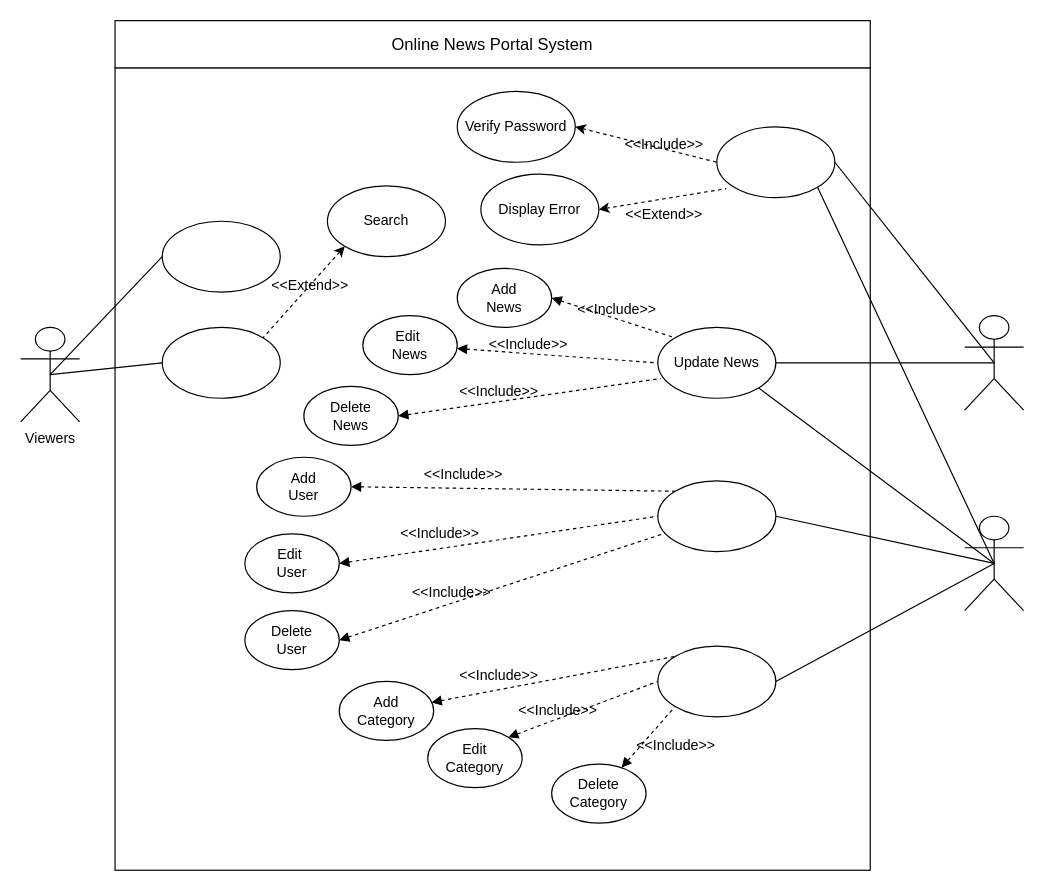
Image size: 1055x891. Some labels were removed from this diagram. Here are the shapes that lost their labels. From the top down, the box of each, then its label:
(716, 126, 835, 198): login
(161, 220, 280, 292): Browse Category
(161, 326, 280, 398): View
(963, 314, 1024, 410): System User
(657, 480, 776, 552): Update System Users
(963, 515, 1024, 611): Admin
(657, 645, 776, 717): Update Categories
